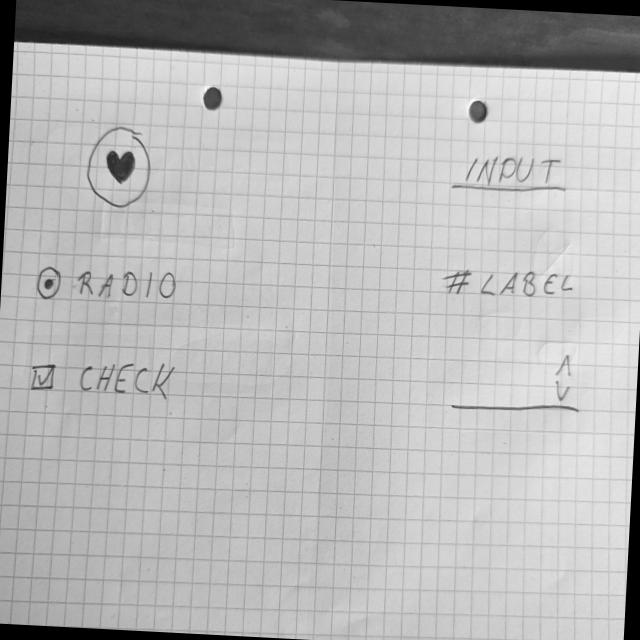checkbox: (29, 357, 180, 405)
icon-button: (86, 126, 156, 214)
input: (448, 149, 570, 198)
label: (442, 263, 581, 307)
number-input: (448, 346, 586, 420)
radio: (36, 261, 181, 311)
